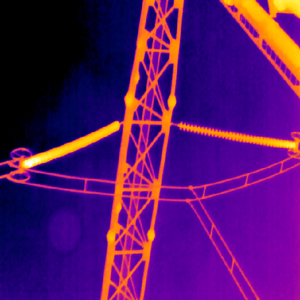insulator: (21, 117, 119, 170), (177, 120, 295, 150)
